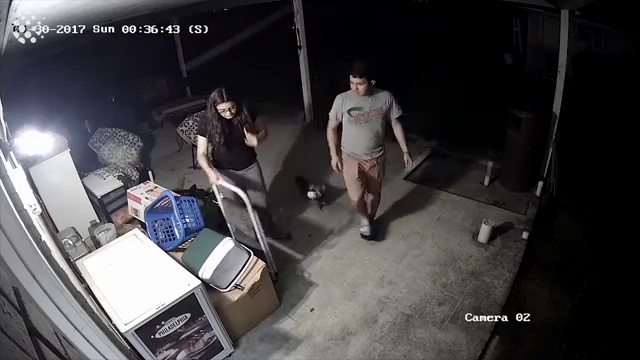face: (350, 75, 368, 96), (216, 102, 237, 118)
